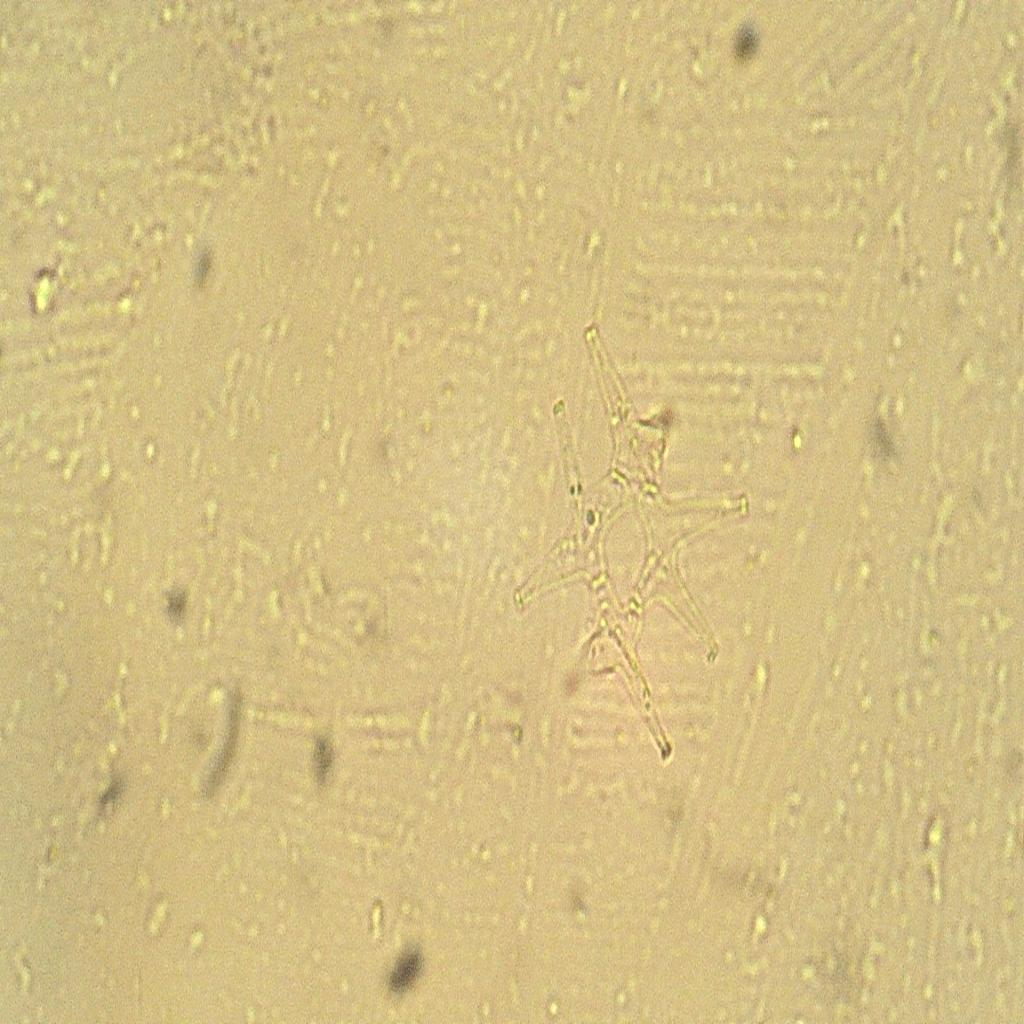Pediastrum_75TH: (484, 311, 790, 811)
